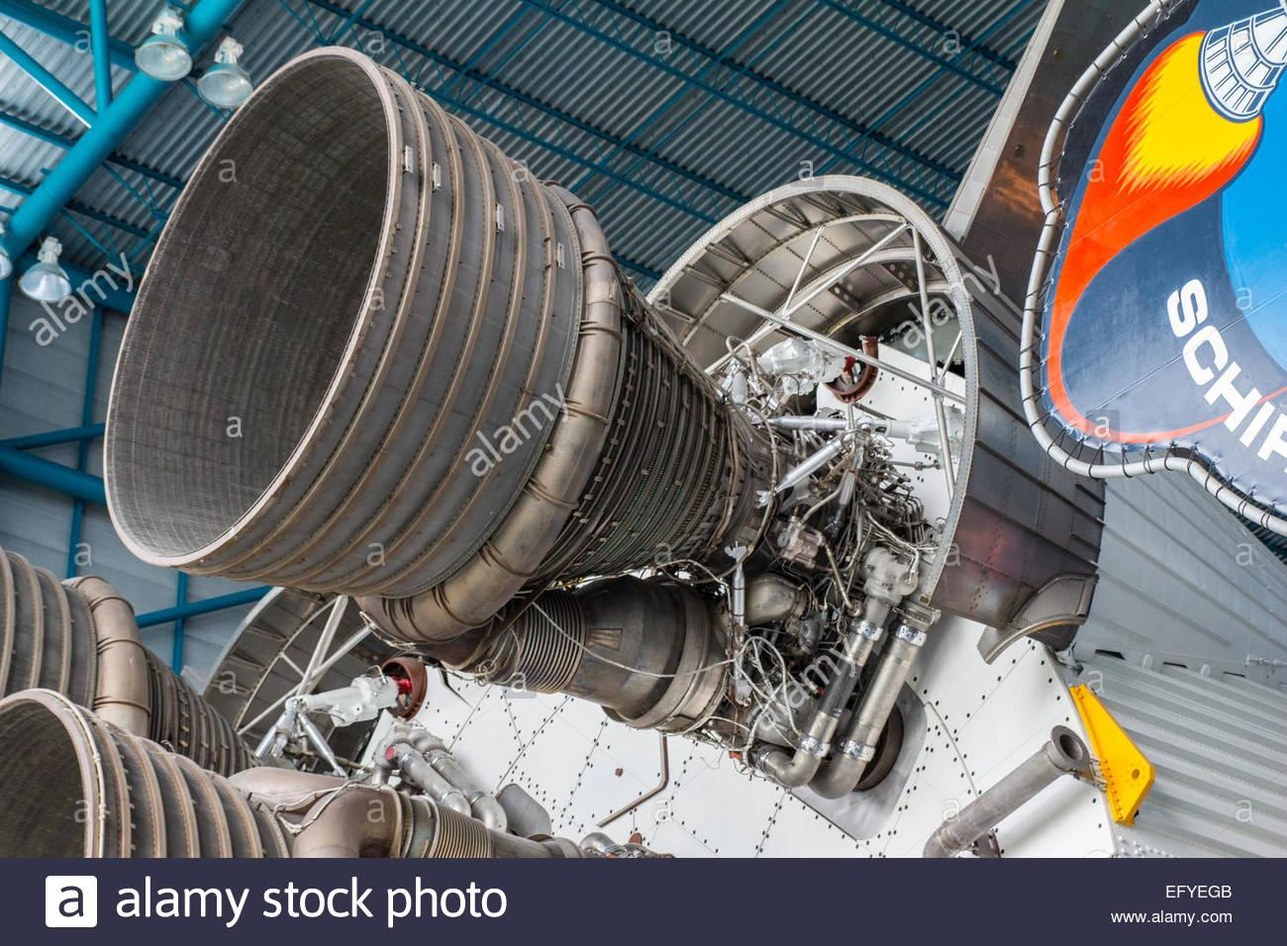body: (186, 170, 1287, 861)
thruster: (100, 44, 751, 614), (0, 541, 255, 797), (0, 681, 292, 861)
